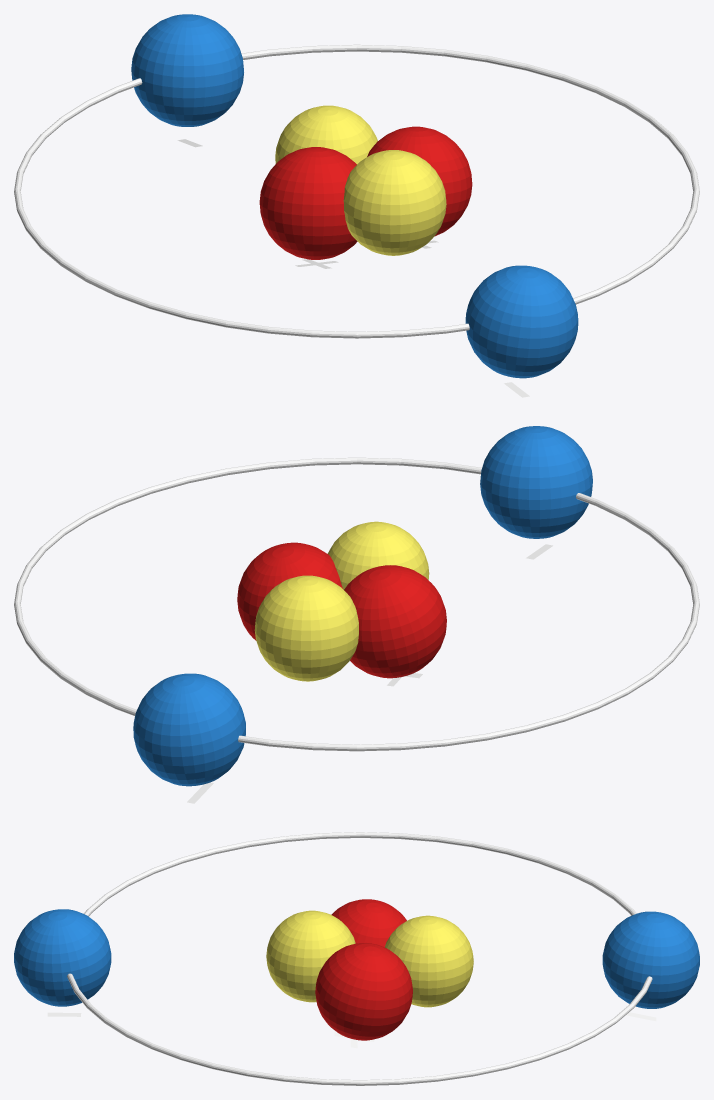
3 views of the same model, one above another, from view 1: azimuth 30°, elevation 25°; view 2: azimuth 150°, elevation 25°; view 3: azimuth 270°, elevation 25° (orthographic). The views are drawn at different scales.
Visible parts, largest first — view 1: Torus.001, -, -.001, Sphere.001, f, f.001, Sphere; view 2: Torus.001, -.001, -, f, Sphere, Sphere.001, f.001; view 3: Torus.001, f.001, -, -.001, Sphere, Sphere.001, f.
Boxes of the visible parts, x1,y1,x2,y2 form: Torus.001: (14, 44, 699, 338); -: (465, 265, 578, 378); -.001: (131, 14, 243, 126); Sphere.001: (343, 150, 446, 255); f: (259, 147, 357, 259); f.001: (367, 126, 472, 236); Sphere: (275, 105, 377, 164); Torus.001: (14, 457, 699, 751); -.001: (133, 673, 245, 786); -: (480, 426, 592, 538); f: (344, 565, 446, 678); Sphere: (254, 575, 358, 681); Sphere.001: (327, 521, 429, 589); f.001: (237, 542, 342, 640); Torus.001: (67, 832, 652, 1085); f.001: (315, 943, 412, 1040); -: (14, 909, 111, 1006); -.001: (602, 911, 699, 1008); Sphere: (385, 915, 473, 1007); Sphere.001: (266, 910, 355, 1002); f: (331, 899, 406, 946).
Bounding box in the file's own units: 2.82 × 0.5802 × 3.27.
